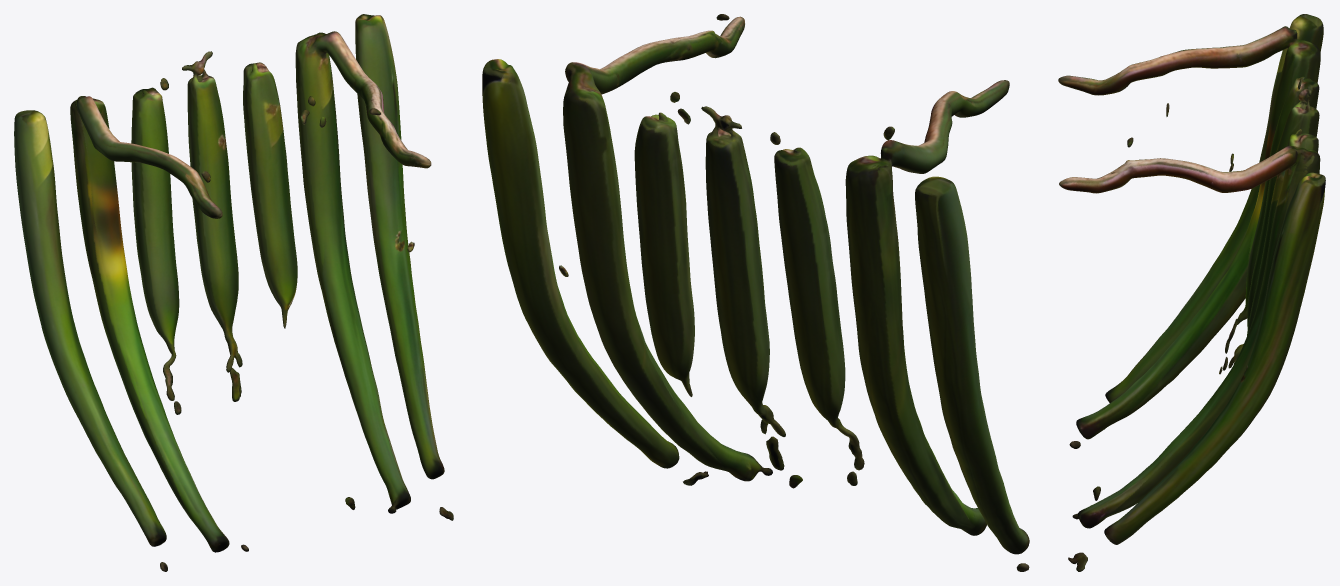
Rendered from tree0074_dup.gltf.
The picture shows the model from 3 angles, left to right: view 1: azimuth 30°, elevation 25°; view 2: azimuth 150°, elevation 25°; view 3: azimuth 270°, elevation 25°; orthographic projection. The views are drawn at different scales.
Visible parts, largest first — view 1: Mesh_0.057; view 2: Mesh_0.057; view 3: Mesh_0.057.
Part boxes in pixels (x1,y1,x2,y2): Mesh_0.057: (14,14,453,571); Mesh_0.057: (482,14,1029,571); Mesh_0.057: (1058,14,1325,571).
Bounding box in the file's own units: 1.81 × 1.92 × 1.11.
Materials: 1 (1 with a texture image).
